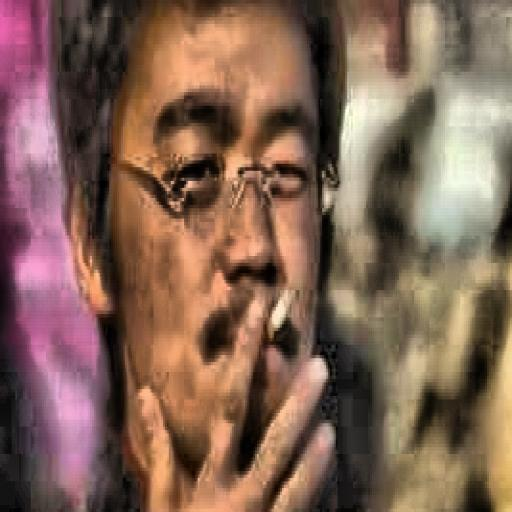Merokok: (270, 287, 297, 338)
Rokok: (56, 0, 345, 512)
